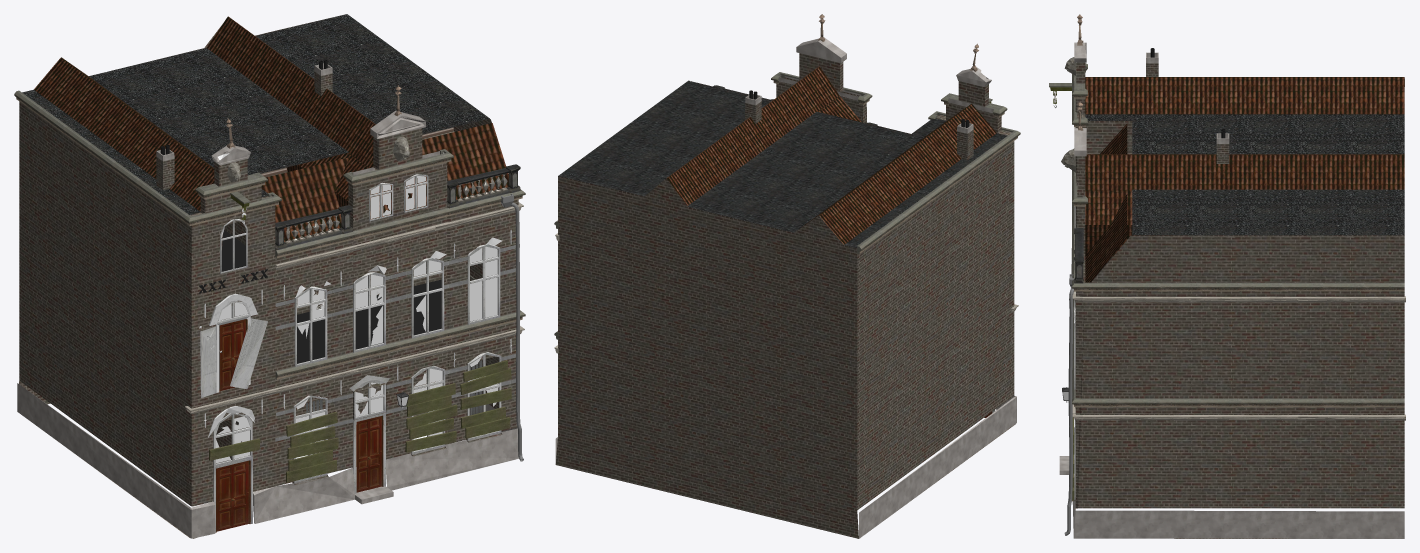
The model's file is canalHouse3.glb.
The picture shows the model from 3 angles, left to right: view 1: azimuth 30°, elevation 25°; view 2: azimuth 150°, elevation 25°; view 3: azimuth 270°, elevation 25°; orthographic projection. The views are drawn at different scales.
Parts seen in each view (by area): view 1: Object_84, Object_245, Object_244, Object_85, Object_172, Object_5, Object_132, Object_70, Object_65, Object_164, Object_51, Object_72 (+3 smaller); view 2: Object_84, Object_245, Object_244, Object_85, Object_5; view 3: Object_84, Object_244, Object_245, Object_85, Object_5, Object_51, Object_230, Object_72.
Part boxes in pixels (left/top/right/bottom): Object_84: left=19, top=16, right=518, bottom=538; Object_245: left=22, top=14, right=489, bottom=214; Object_244: left=34, top=16, right=508, bottom=241; Object_85: left=17, top=63, right=522, bottom=538; Object_172: left=200, top=174, right=501, bottom=532; Object_5: left=14, top=90, right=525, bottom=379; Object_132: left=209, top=360, right=511, bottom=482; Object_70: left=199, top=153, right=511, bottom=463; Object_65: left=216, top=319, right=383, bottom=532; Object_164: left=160, top=59, right=488, bottom=388; Object_51: left=185, top=202, right=524, bottom=414; Object_72: left=275, top=164, right=520, bottom=249; Object_84: left=555, top=53, right=1016, bottom=538; Object_245: left=558, top=80, right=1007, bottom=247; Object_244: left=666, top=66, right=996, bottom=244; Object_85: left=555, top=37, right=1016, bottom=538; Object_5: left=554, top=72, right=1020, bottom=339; Object_84: left=1072, top=62, right=1404, bottom=538; Object_244: left=1085, top=77, right=1404, bottom=282; Object_245: left=1085, top=114, right=1404, bottom=235; Object_85: left=1059, top=42, right=1404, bottom=538; Object_5: left=1049, top=63, right=1404, bottom=407; Object_51: left=1072, top=291, right=1405, bottom=420; Object_230: left=1064, top=274, right=1073, bottom=535; Object_72: left=1074, top=227, right=1083, bottom=283.
Size of the model in its own units: 9.96 by 11.56 by 9.59.
22 materials, 18 textured.
